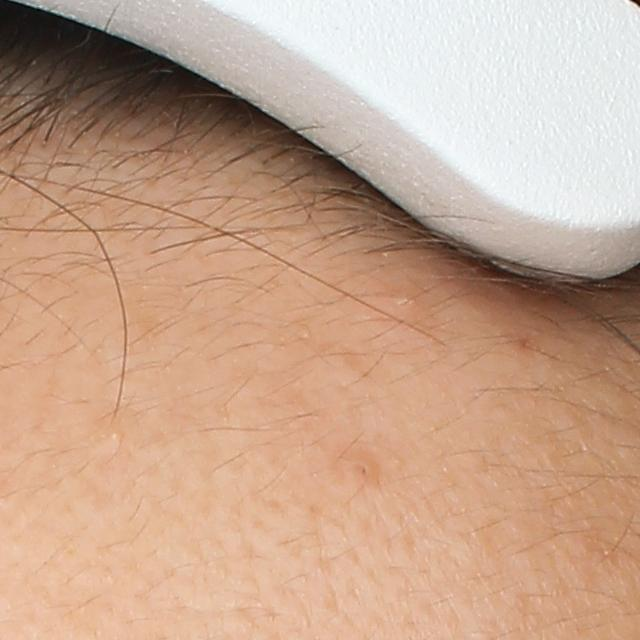comedo: (106, 429, 120, 444)
